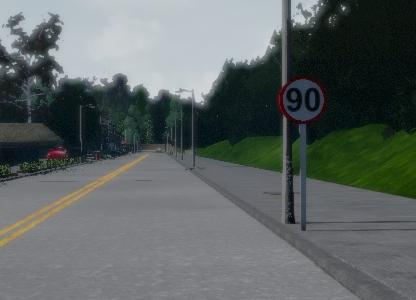Speed_90: (279, 72, 328, 126)
